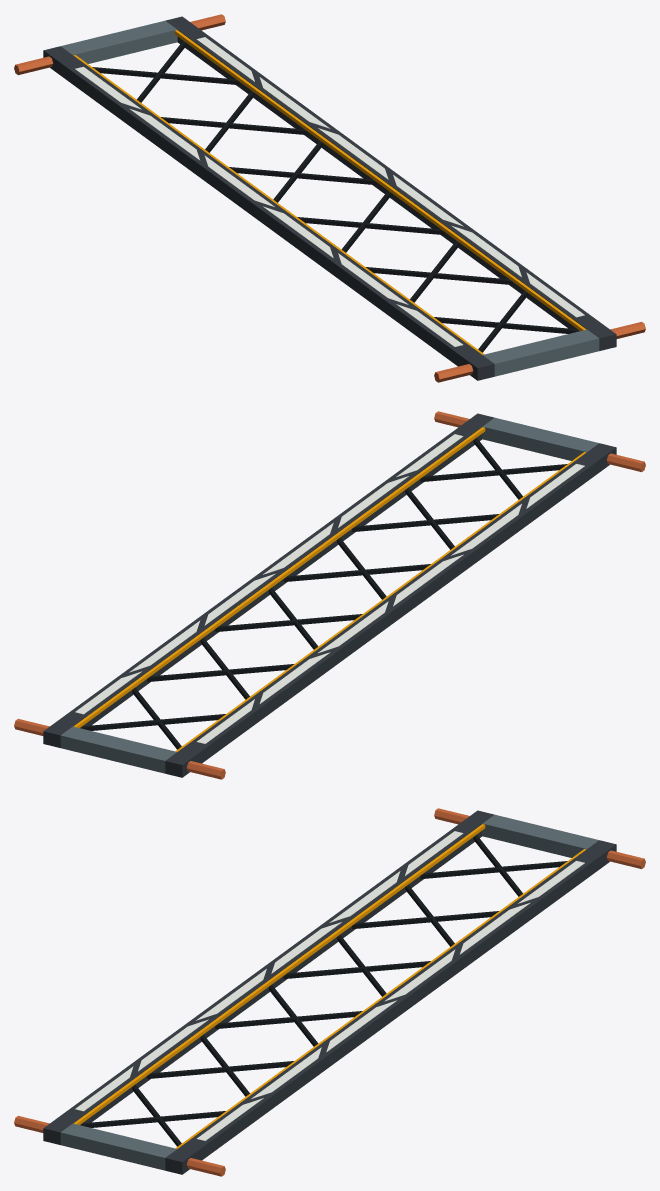
The model's file is prop23.FBX.
The picture shows the model from 3 angles, top to bottom: view 1: azimuth 30°, elevation 25°; view 2: azimuth 150°, elevation 25°; view 3: azimuth 330°, elevation 25°; orthographic projection.
Parts seen in each view (by area): view 1: prop23; view 2: prop23; view 3: prop23.
Part boxes in pixels (<box>): prop23: <box>14,14,645,382</box>; prop23: <box>14,411,645,779</box>; prop23: <box>14,808,645,1176</box>.
Size of the model in its own units: 28.77 by 1.74 by 105.
